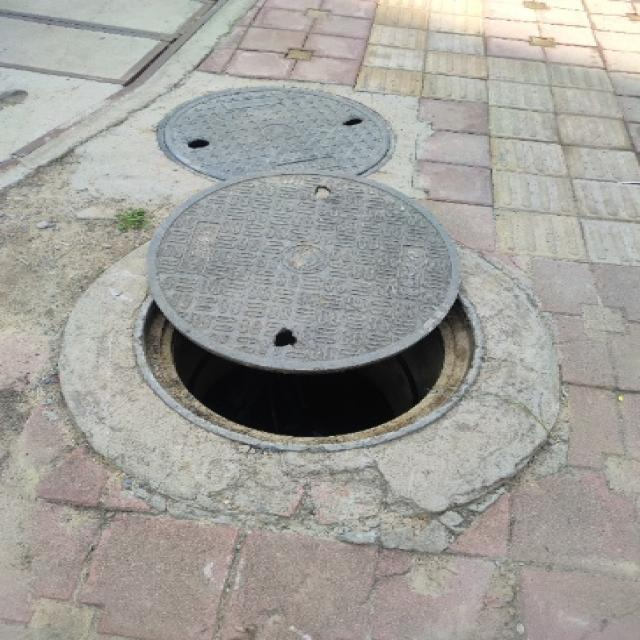Faulty: (119, 163, 543, 483)
Good: (115, 79, 418, 180)
